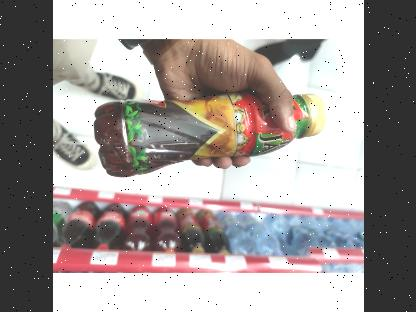Plastic Bottle: (85, 72, 331, 198)
